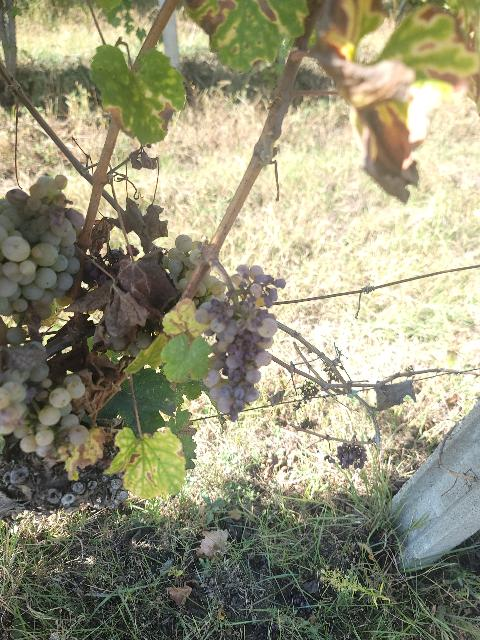grapes: (195, 265, 285, 421), (0, 175, 84, 342), (20, 364, 89, 458), (0, 342, 49, 432)
